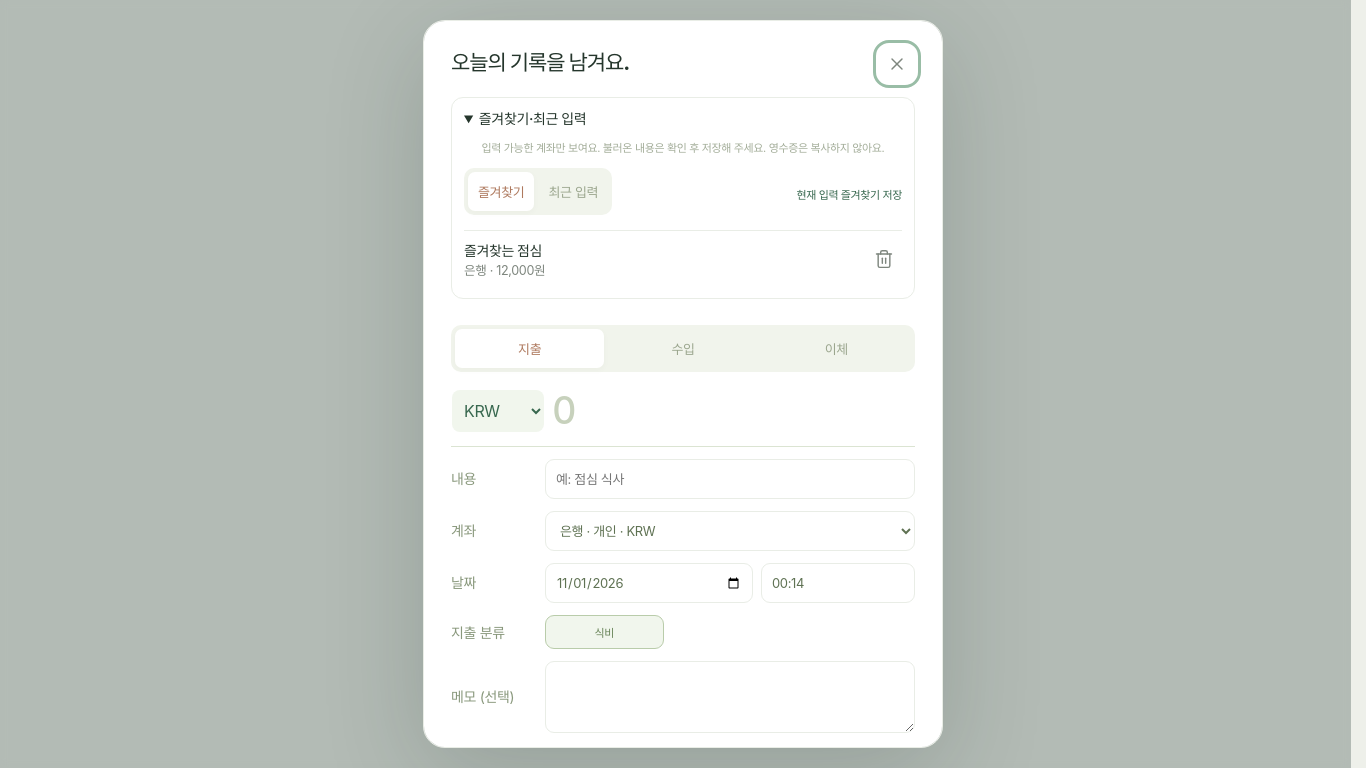
Scenario: offers recent input without mutating the original and filters the request to the selected ledger
The image size is (1366, 768).
Expected: the button "즐겨찾는 점심 은행 · 12,000원" is shown, left=464, top=240, right=856, bottom=279
Click the button "최근 입력".
click(573, 191)  # box left=538, top=172, right=608, bottom=211
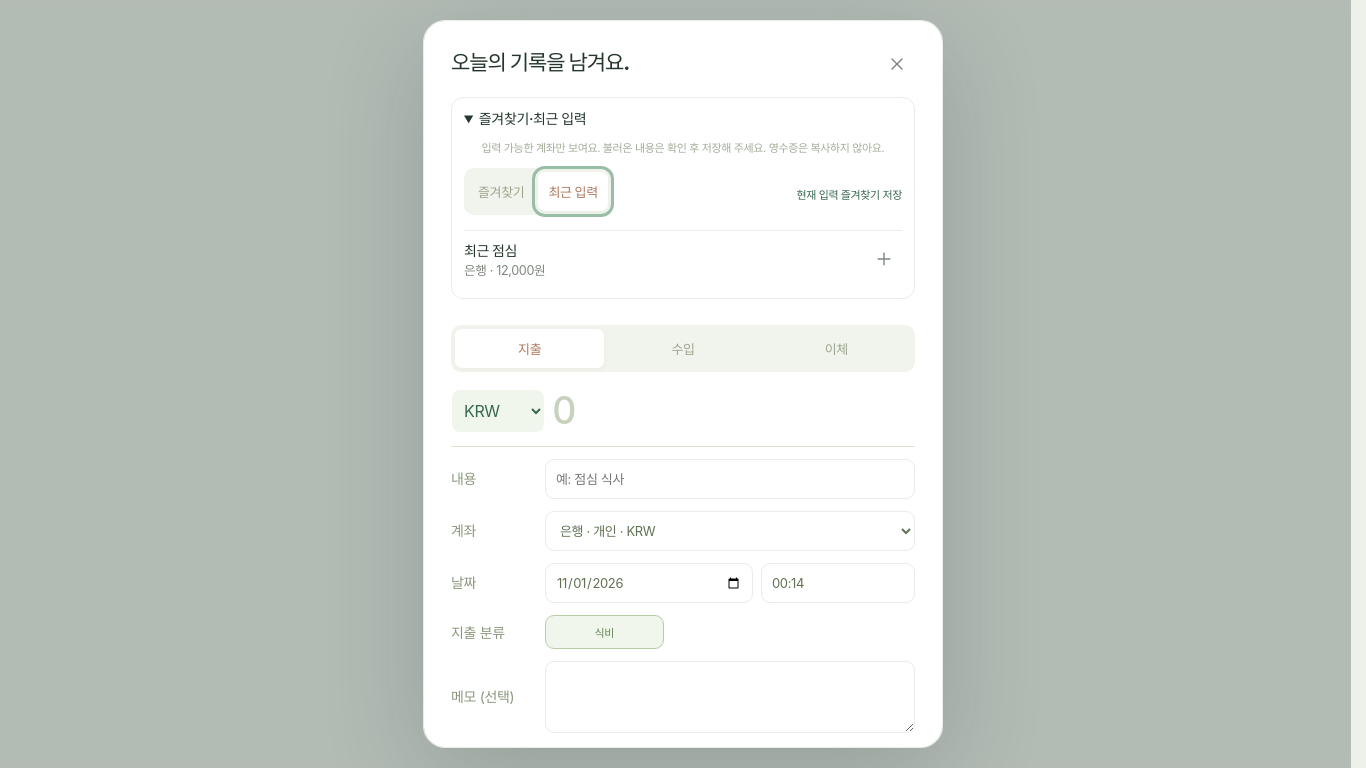
Click the button "최근 점심 은행 · 12,000원".
click(491, 250)  # box left=464, top=240, right=856, bottom=279
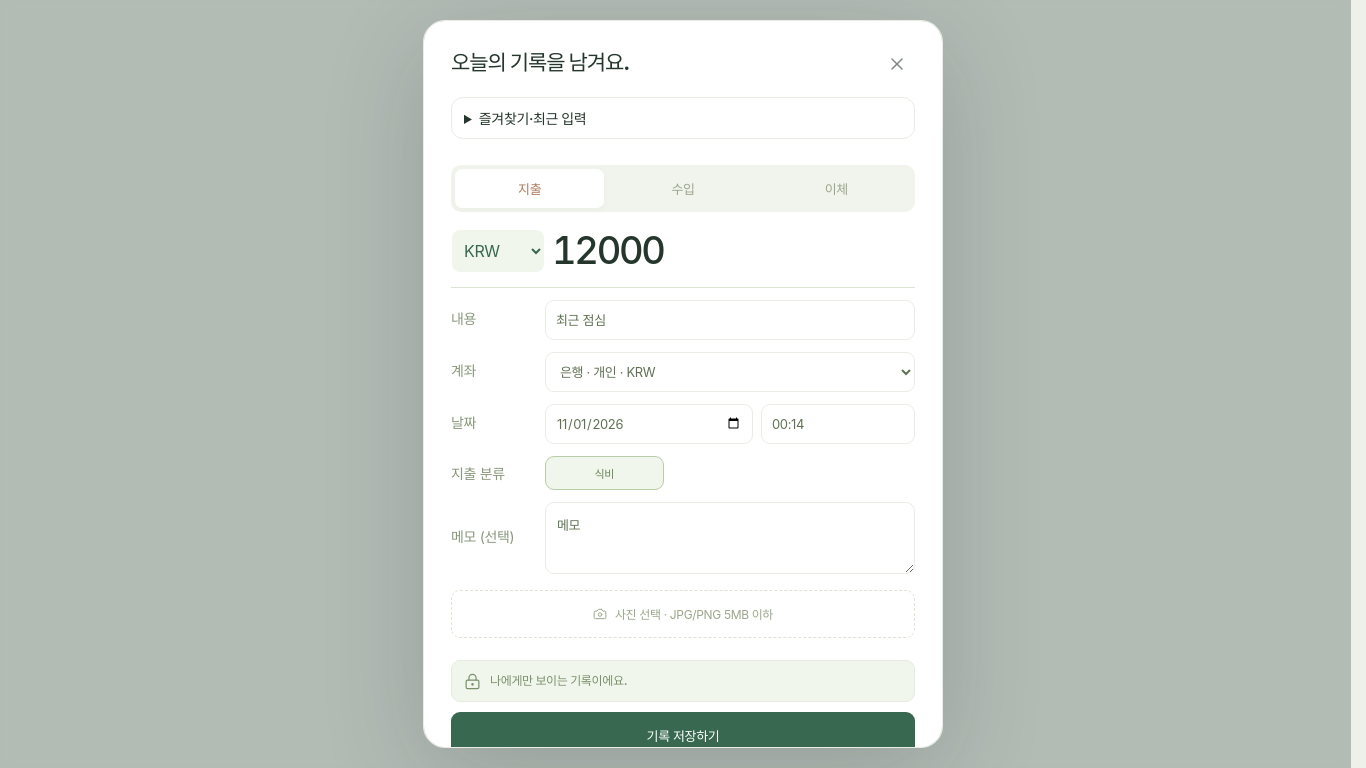
Expected: the field labelled "내용" holds "최근 점심", left=545, top=300, right=915, bottom=340
